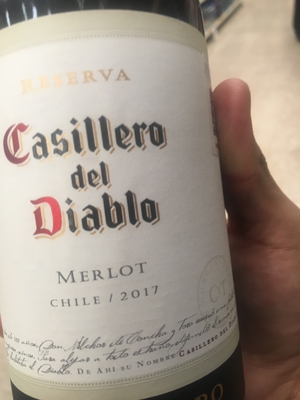casillero del diablo merlot: (1, 5, 251, 400)
